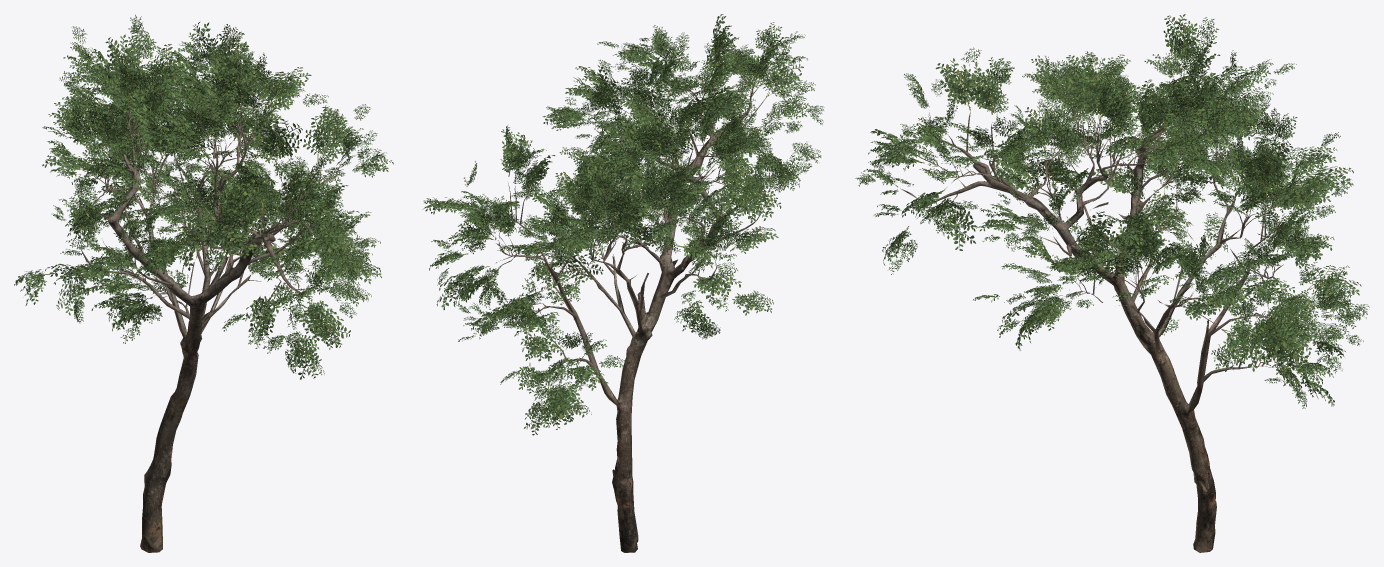
Rendered from tree_small_02_hero.glb.
3 renders of one model, left to right at view 1: azimuth 30°, elevation 25°; view 2: azimuth 150°, elevation 25°; view 3: azimuth 270°, elevation 25°, orthographic. The views are drawn at different scales.
Visible parts, largest first — view 1: tree_small_02_LOD0; view 2: tree_small_02_LOD0; view 3: tree_small_02_LOD0.
Part boxes in pixels (bbox=[...]): tree_small_02_LOD0: bbox=[14, 14, 393, 552]; tree_small_02_LOD0: bbox=[422, 14, 824, 552]; tree_small_02_LOD0: bbox=[855, 14, 1369, 552].
Bounding box in the file's own units: 2.92 × 4.56 × 4.29.
3 materials, 3 textured.
